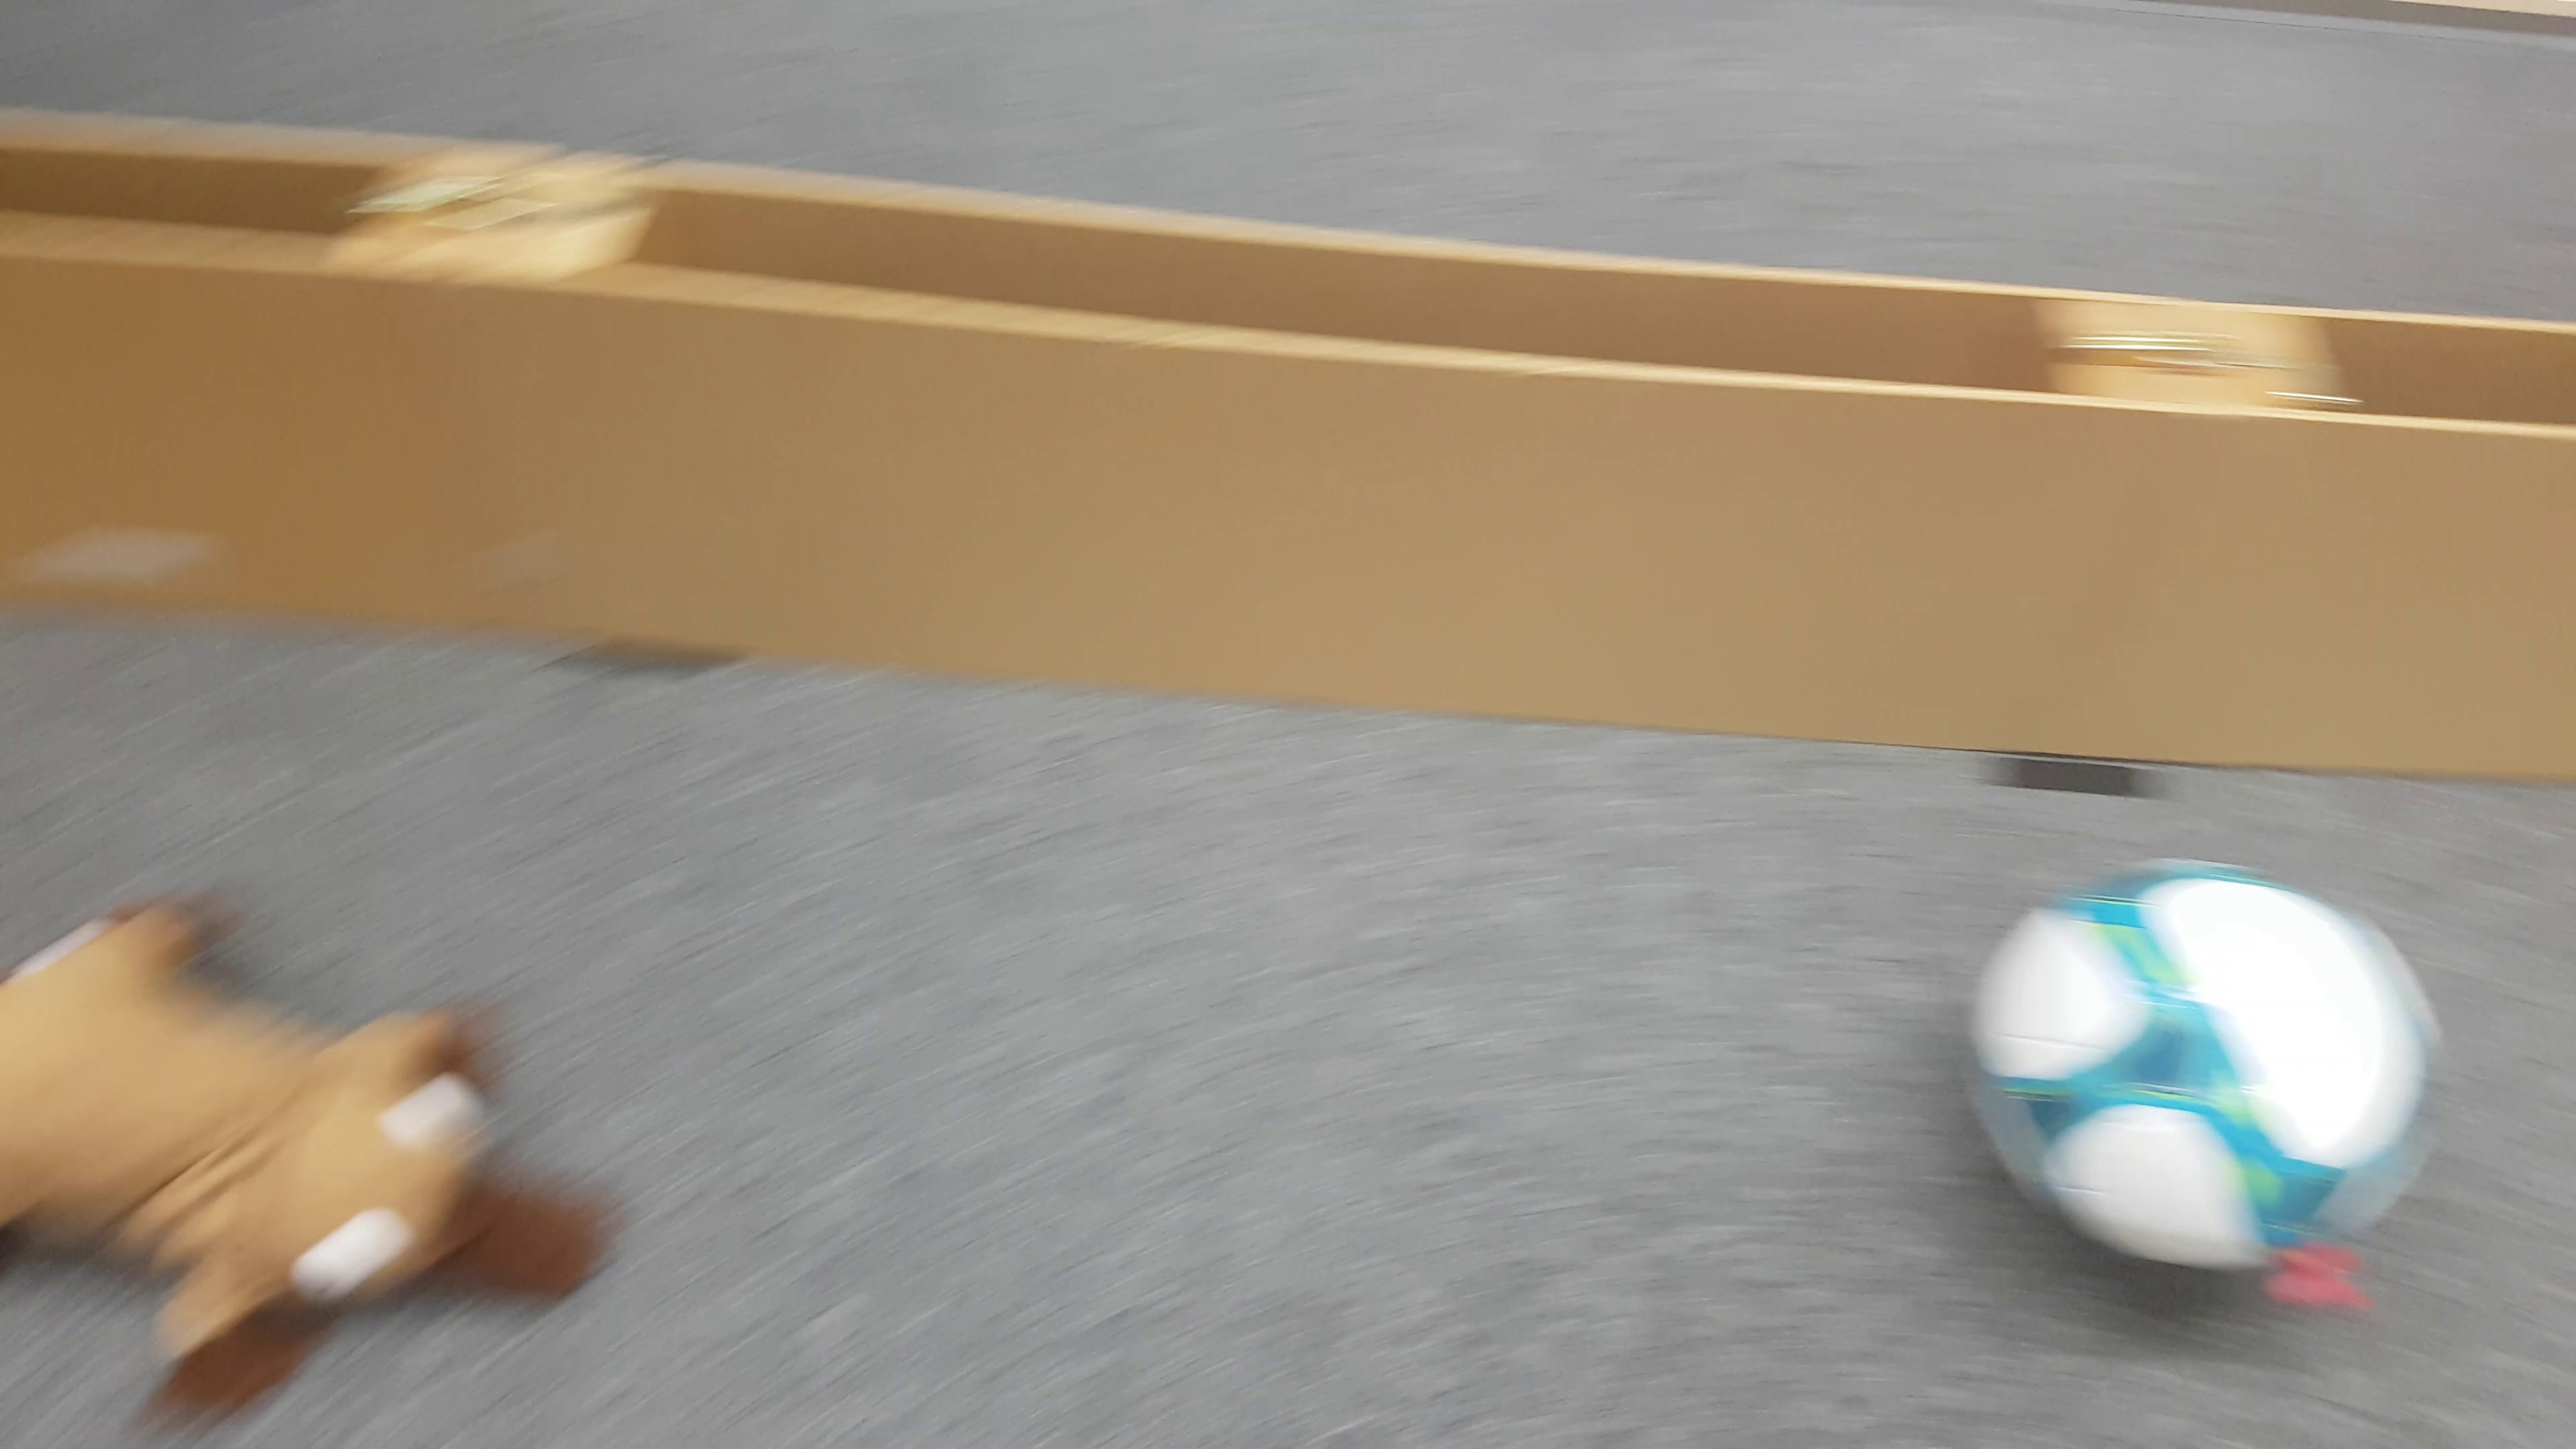grasp: (4, 906, 596, 1419)
kick: (1962, 863, 2443, 1279)
